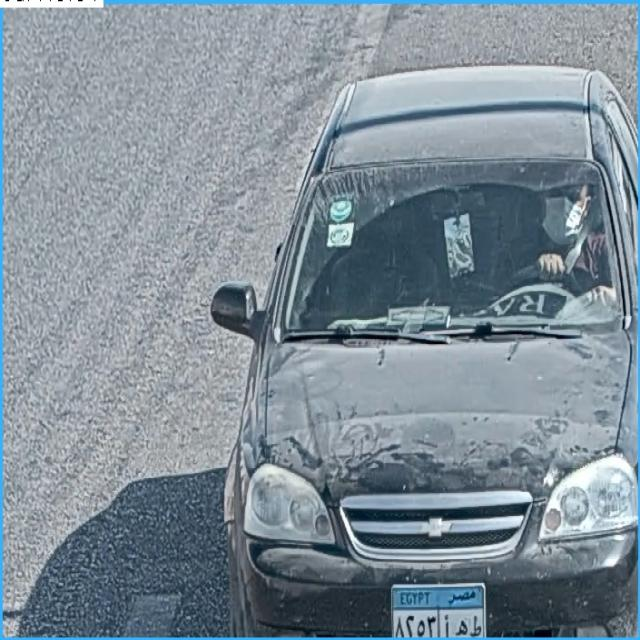windshield: (273, 152, 620, 330)
